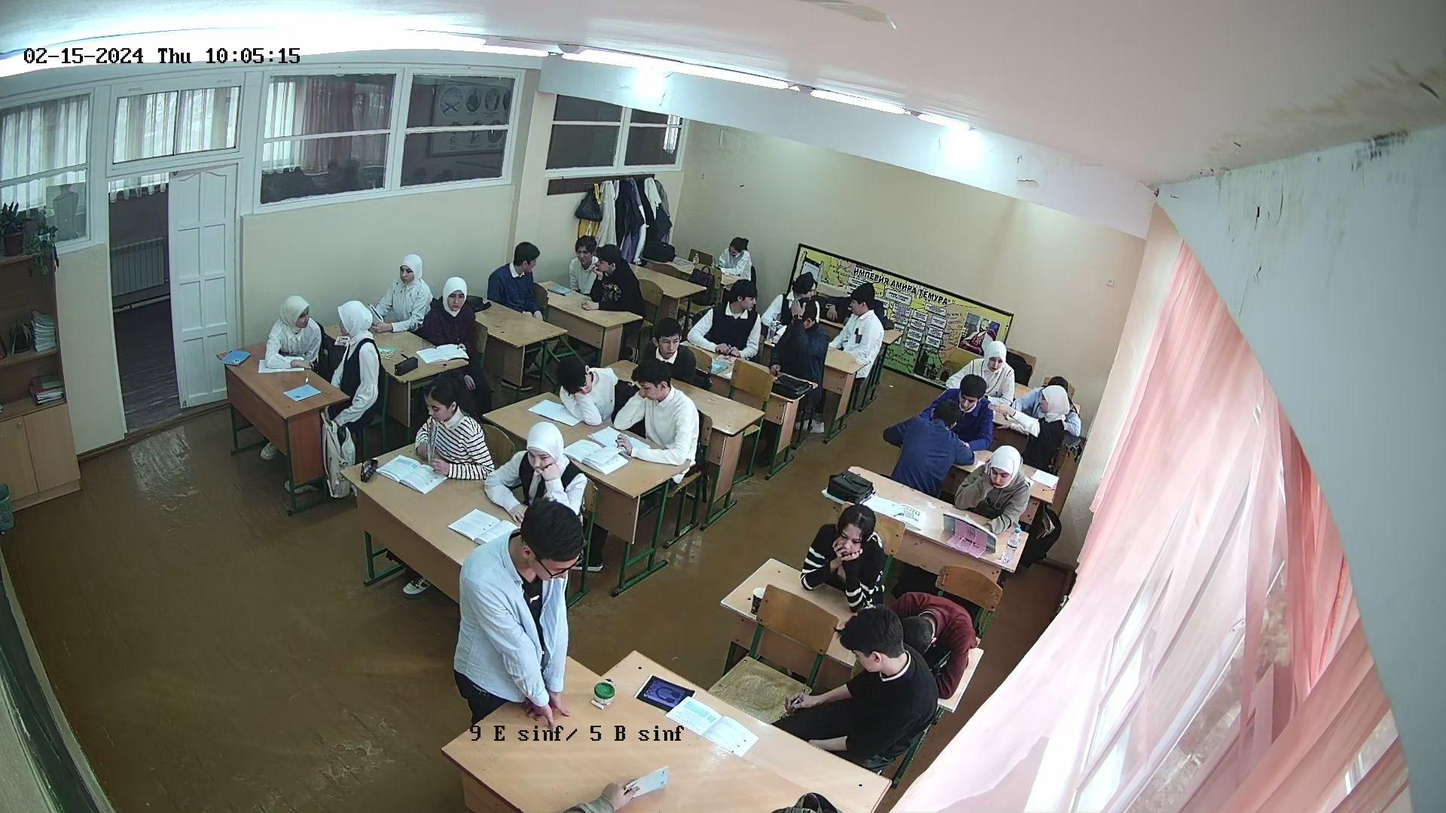Hand Under Table: (791, 689, 830, 713), (804, 735, 859, 752)
Look Around: (333, 304, 384, 417), (255, 288, 312, 381), (491, 232, 547, 321), (432, 276, 473, 337), (841, 285, 882, 340), (725, 279, 762, 331), (651, 319, 684, 367), (787, 271, 823, 299)
Normal: (415, 377, 488, 476), (716, 237, 754, 276)
Stand Up: (470, 500, 578, 715)
